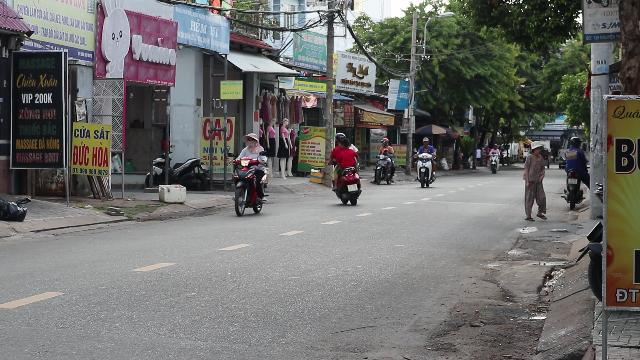motorcyclist: (227, 131, 273, 216)
nohelmet: (242, 132, 258, 148)
